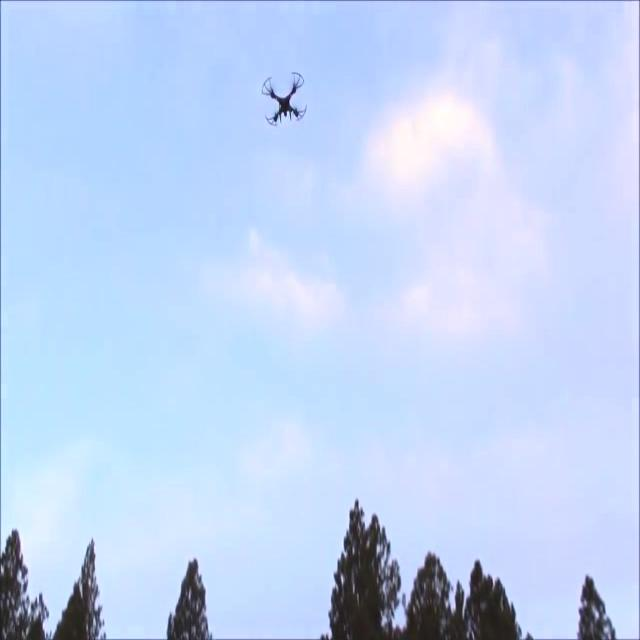drone: (262, 68, 308, 130)
